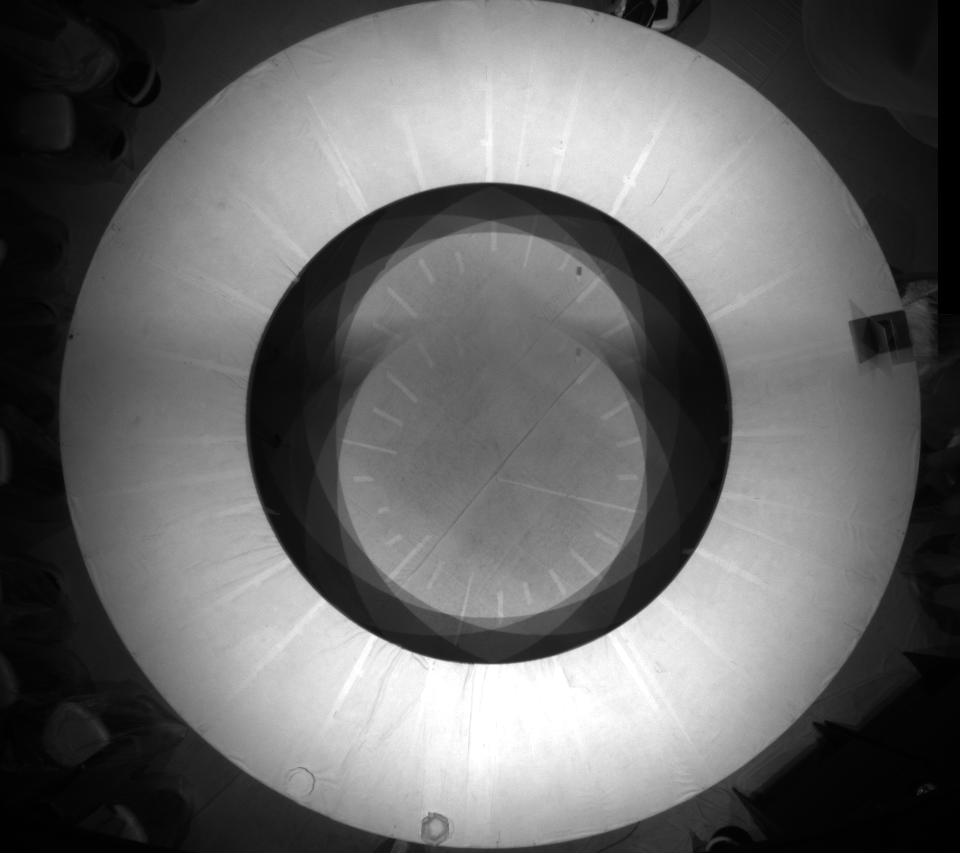Plate: (283, 762, 315, 802)
